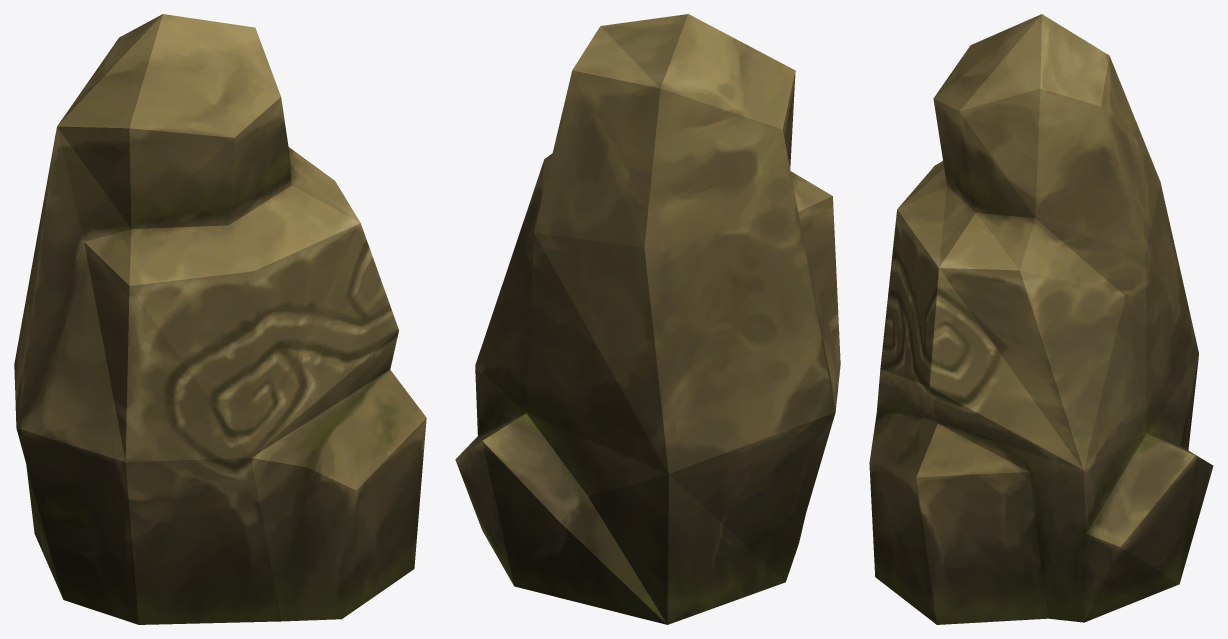
File: stone_03.fbx
3 renders of one model, left to right at view 1: azimuth 30°, elevation 25°; view 2: azimuth 150°, elevation 25°; view 3: azimuth 270°, elevation 25°, orthographic. The views are drawn at different scales.
Parts seen in each view (by area): view 1: obj0.026; view 2: obj0.026; view 3: obj0.026.
Part boxes in pixels (x1,y1,x2,y2): obj0.026: (14, 14, 426, 624); obj0.026: (455, 14, 840, 624); obj0.026: (869, 14, 1213, 624).
Size of the model in its own units: 9.68 by 14.97 by 8.93.
